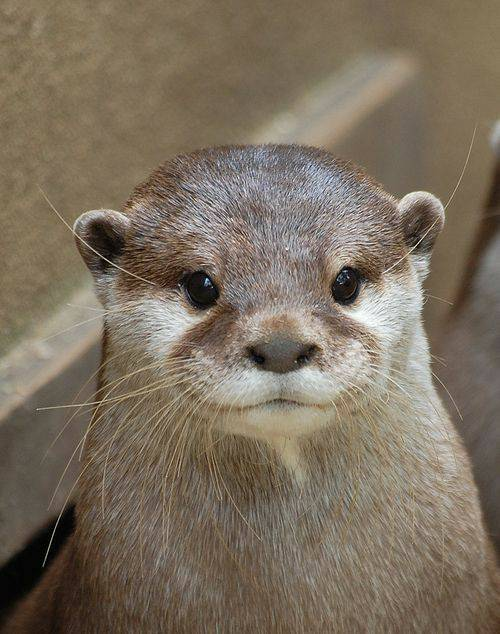otter: (65, 130, 453, 547)
